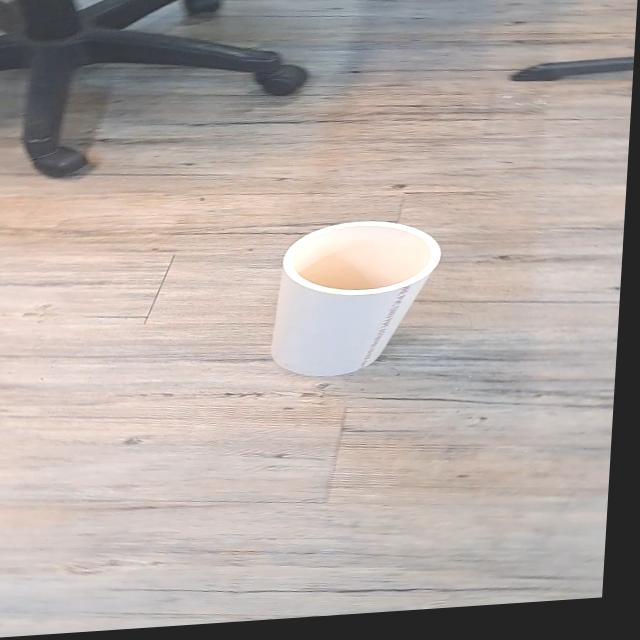CORAL: (218, 191, 469, 409)
